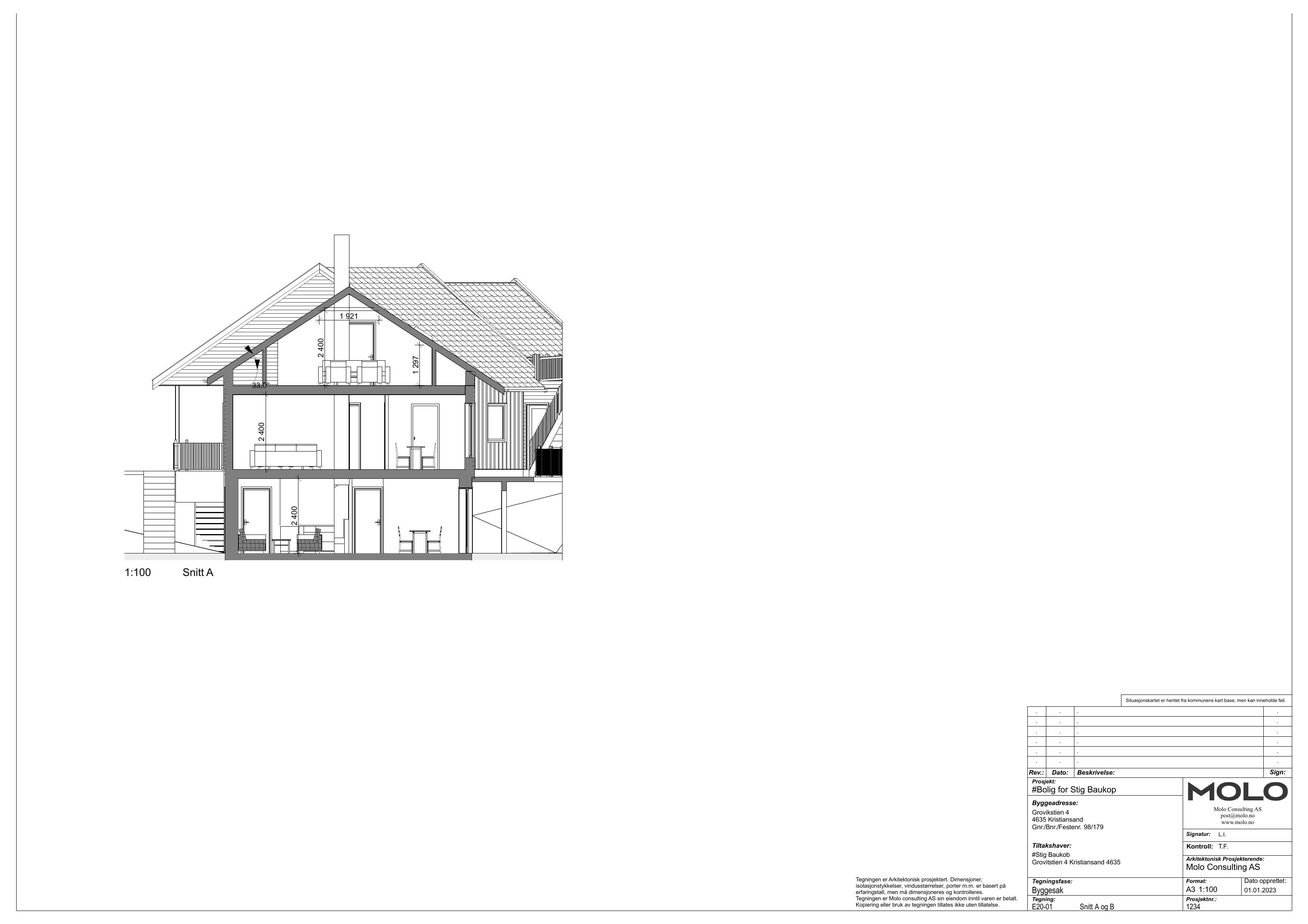snitt: (137, 233, 576, 569)
tekst: (122, 565, 216, 580), (1183, 885, 1219, 894)
